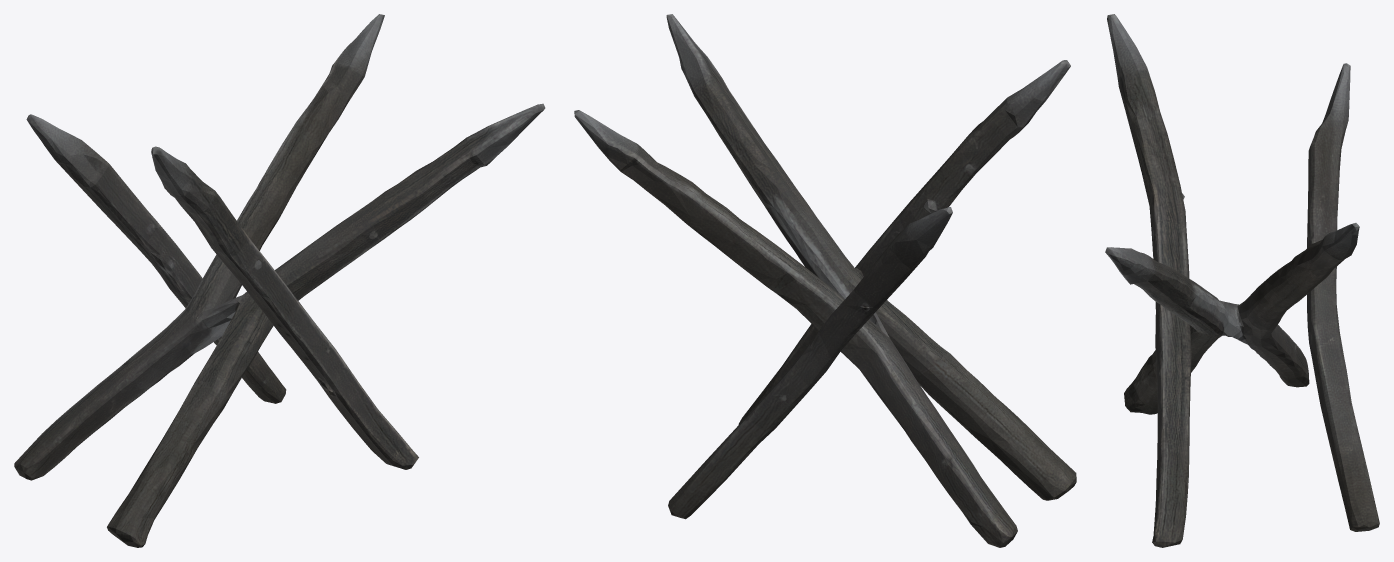
Rendered from stakes.fbx.
The picture shows the model from 3 angles, left to right: view 1: azimuth 30°, elevation 25°; view 2: azimuth 150°, elevation 25°; view 3: azimuth 270°, elevation 25°; orthographic projection. The views are drawn at different scales.
Parts seen in each view (by area): view 1: Mesh_0; view 2: Mesh_0; view 3: Mesh_0.
Boxes of the visible parts, left/top/right/bottom form: Mesh_0: left=14, top=14, right=545, bottom=547; Mesh_0: left=574, top=14, right=1076, bottom=547; Mesh_0: left=1105, top=14, right=1379, bottom=547.
Bounding box in the file's own units: 1.78 × 1.6 × 0.9954.
1 material, 1 textured.
